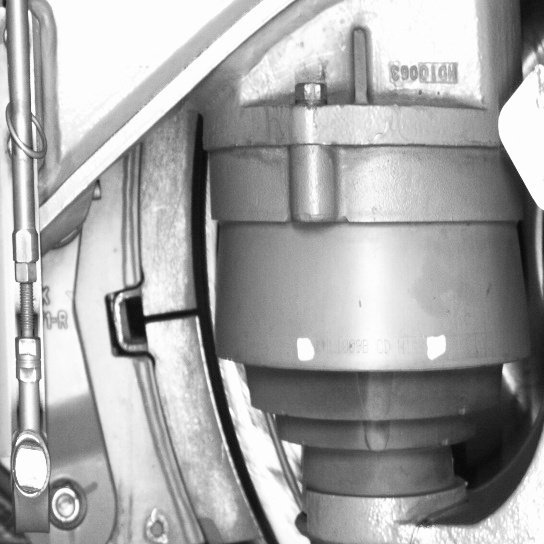KnifeSwitch: (142, 145, 278, 542)
